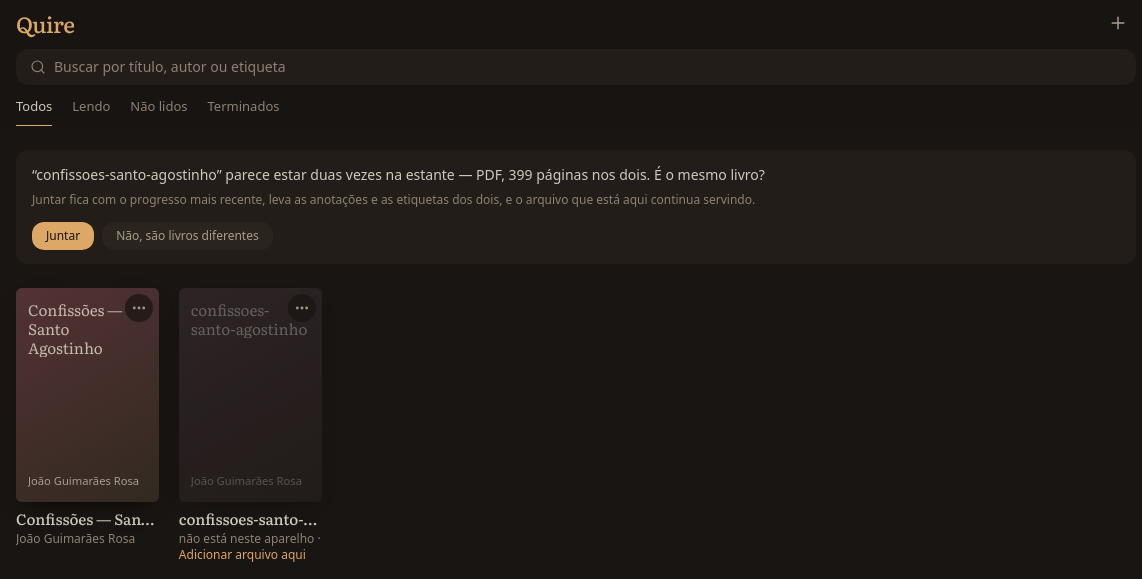
Test: LibraryScreen — o mesmo livro, arquivos diferentes › juntar deixa um livro só, com o arquivo daqui e o progresso mais recente
Check: the text "parece estar duas vezes" is shown, box [32,164,765,184]
Click the button "Juntar" at (63, 236), box [32,222,94,250]
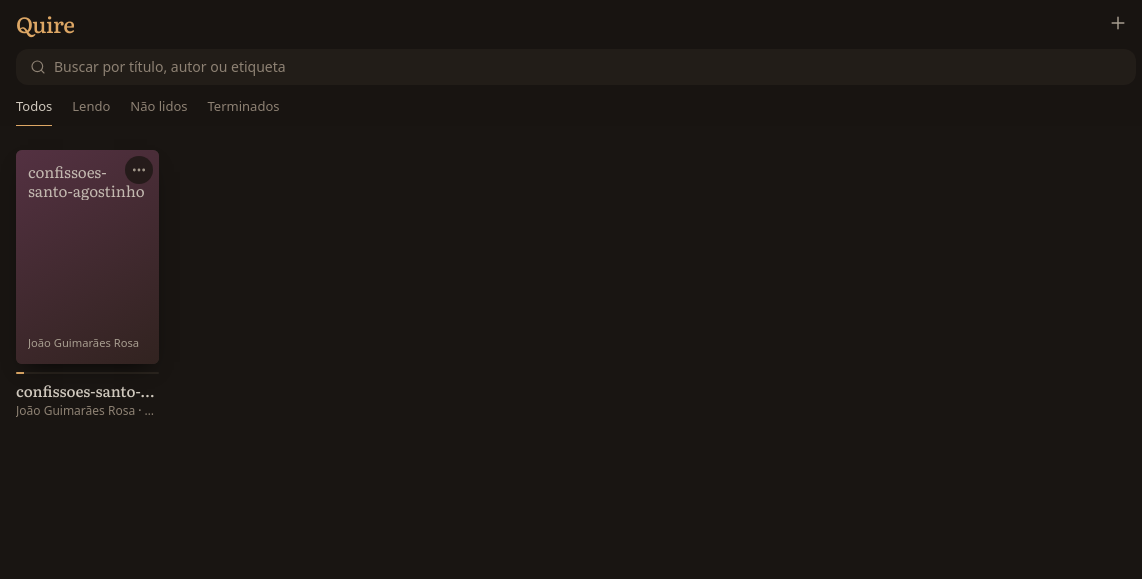
Check: the element "confissoes-santo-agostinho" no longer shows "não está neste aparelho"
Check: the element "confissoes-santo-agostinho" shows "6%", box [16,150,159,418]
Check: the text "parece estar duas vezes" is gone
